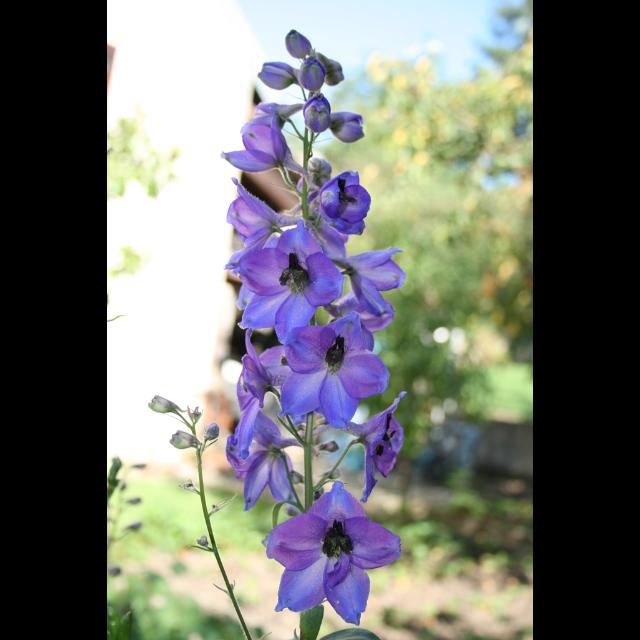Flower: (224, 27, 402, 625)
